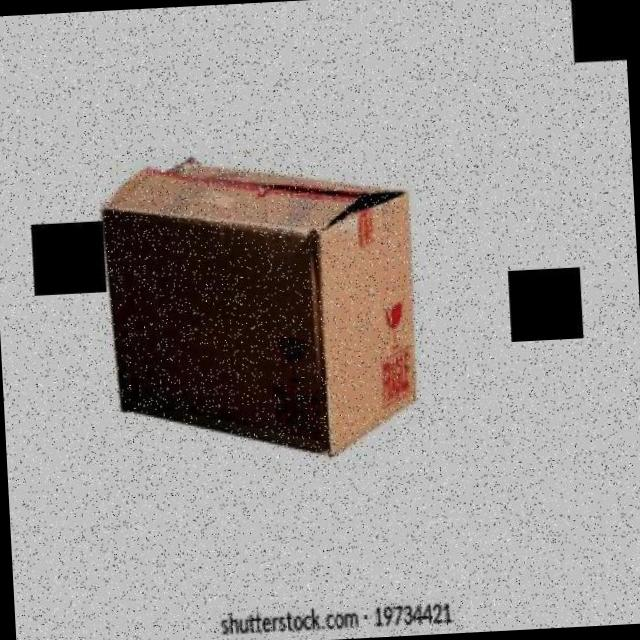box: (83, 128, 438, 481)
